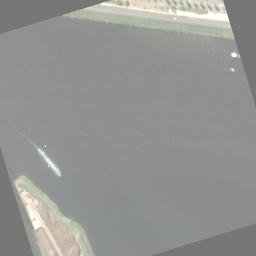boat: (36, 142, 60, 180), (229, 66, 234, 70)
